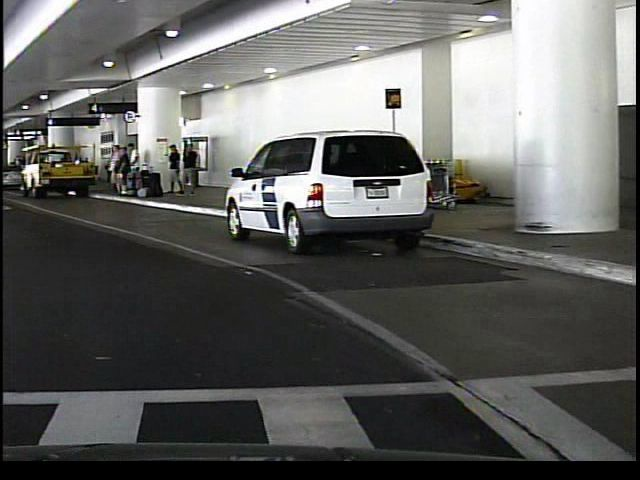person: (178, 139, 197, 197), (103, 141, 118, 197)
